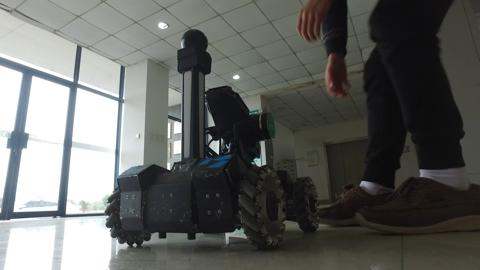chariot: (88, 28, 326, 256)
